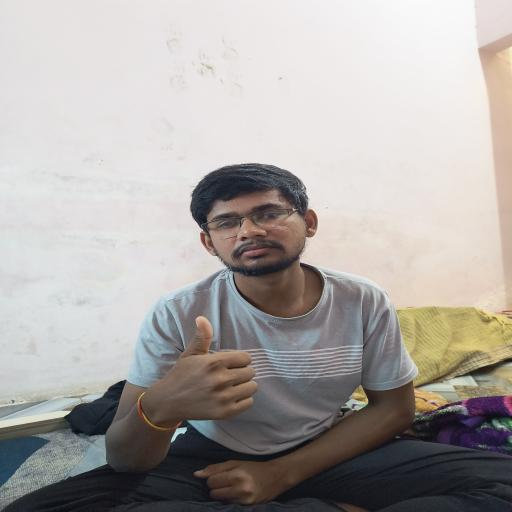Good Morning: (143, 310, 296, 432)
